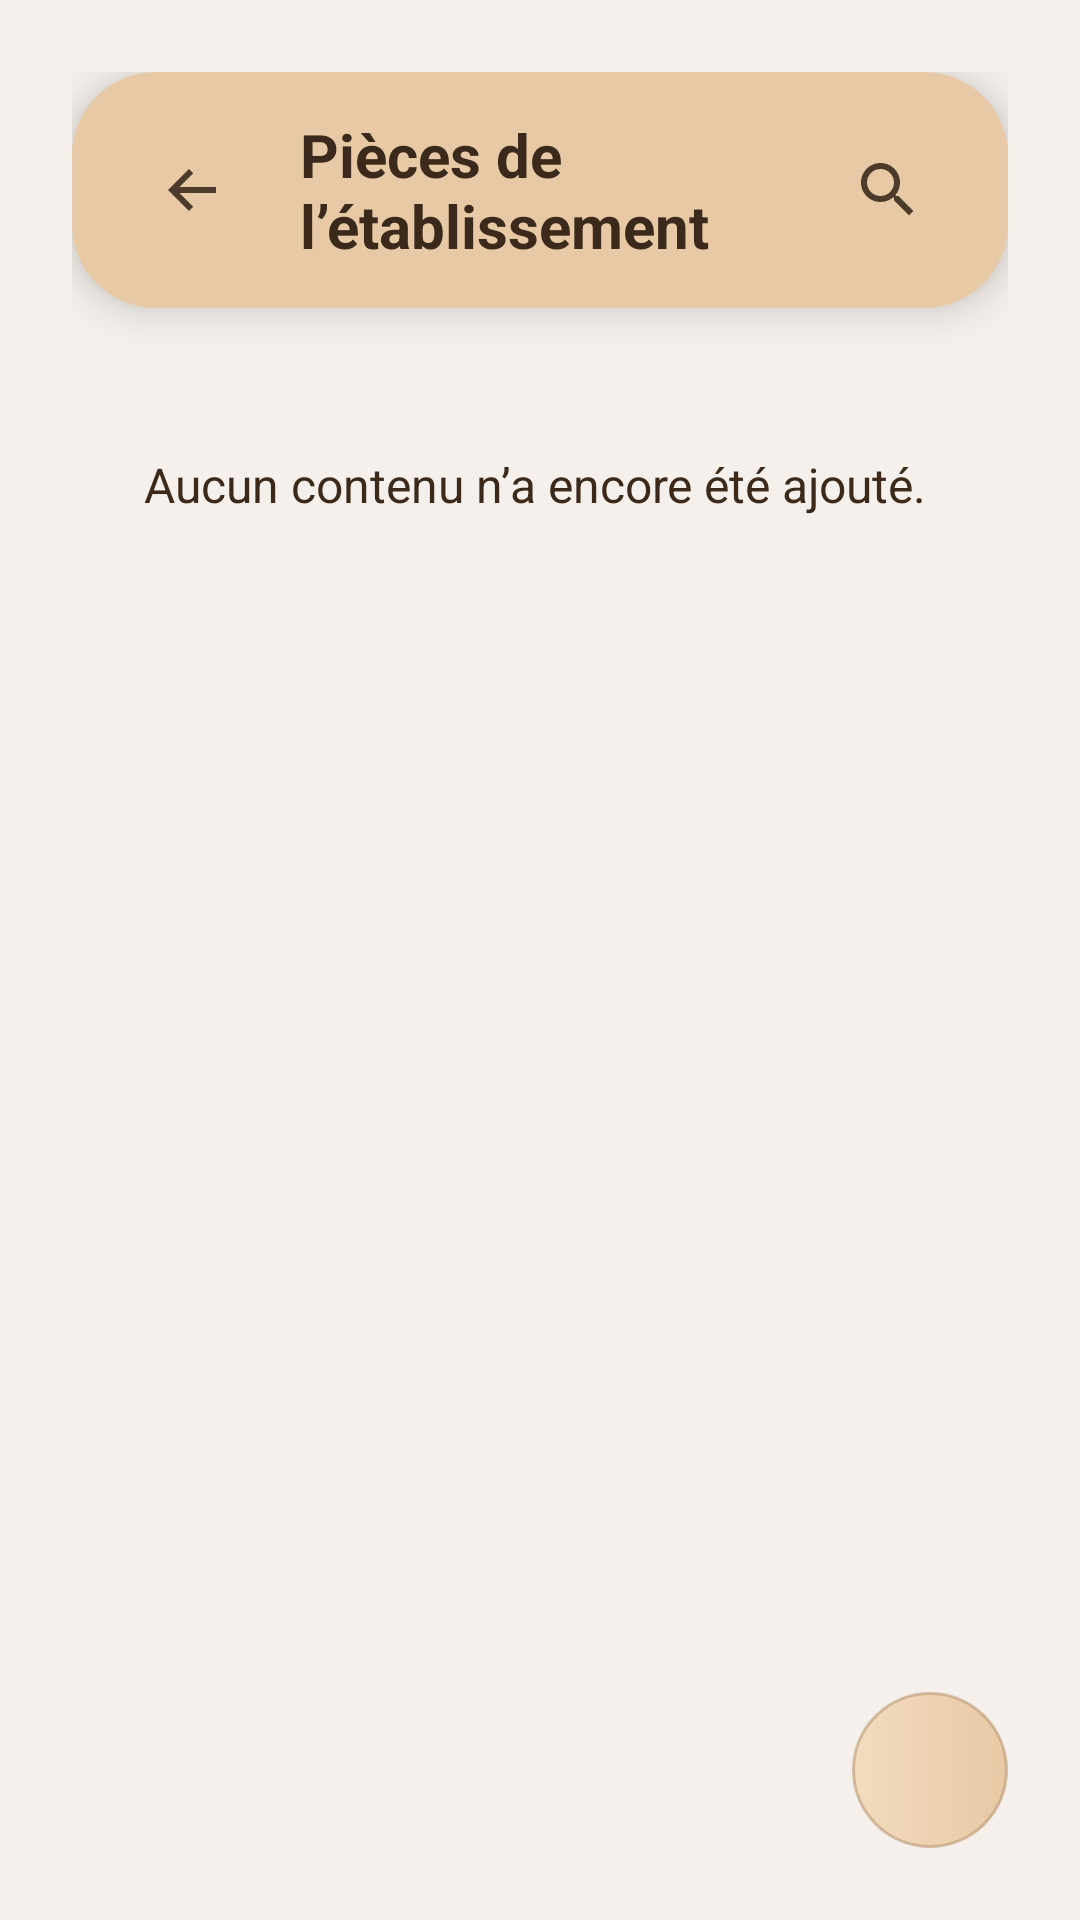

Icon bounding boxes for this 1080 x 1920 phone screenshot, format (x1, y1, x2, y2):
Rechercher: (861, 163, 913, 215)
Retour: (168, 169, 216, 211)
